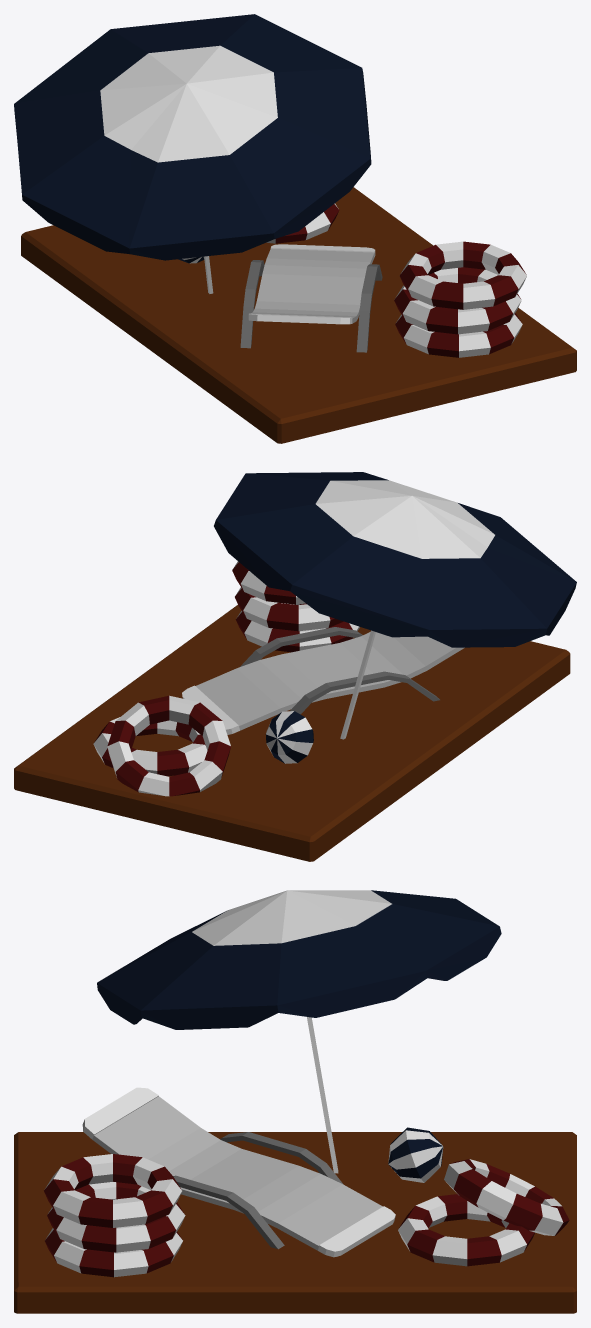
Rendered from W_O_Playground_BeachSymbolic_002_L1.fbx.
3 views of the same model, one above another, from view 1: azimuth 30°, elevation 25°; view 2: azimuth 150°, elevation 25°; view 3: azimuth 270°, elevation 25° (orthographic). The views are drawn at different scales.
Parts seen in each view (by area): view 1: W_O_Playground_BeachSymbolic_002_L1; view 2: W_O_Playground_BeachSymbolic_002_L1; view 3: W_O_Playground_BeachSymbolic_002_L1.
Boxes of the visible parts, x1,y1,x2,y2 form: W_O_Playground_BeachSymbolic_002_L1: [14, 14, 576, 443]; W_O_Playground_BeachSymbolic_002_L1: [14, 472, 576, 861]; W_O_Playground_BeachSymbolic_002_L1: [14, 890, 576, 1313].
Size of the model in its own units: 2.77 by 1.66 by 3.
